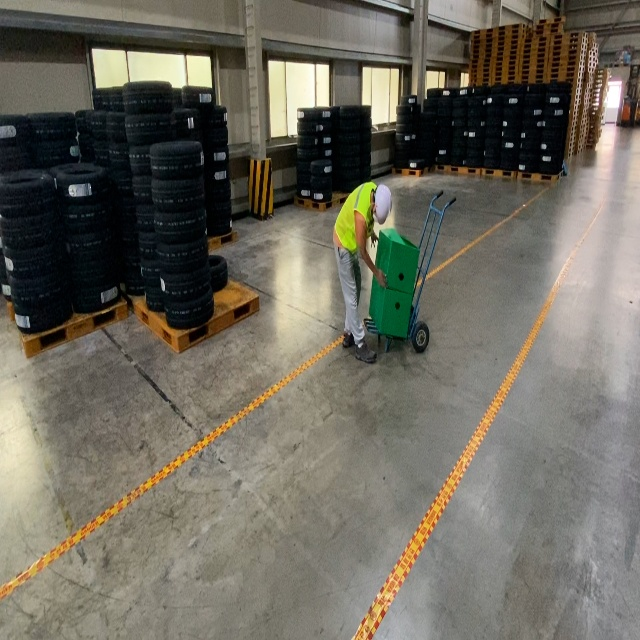Box: (374, 229, 421, 292), (368, 275, 414, 339)
Worker: (333, 182, 392, 364)
